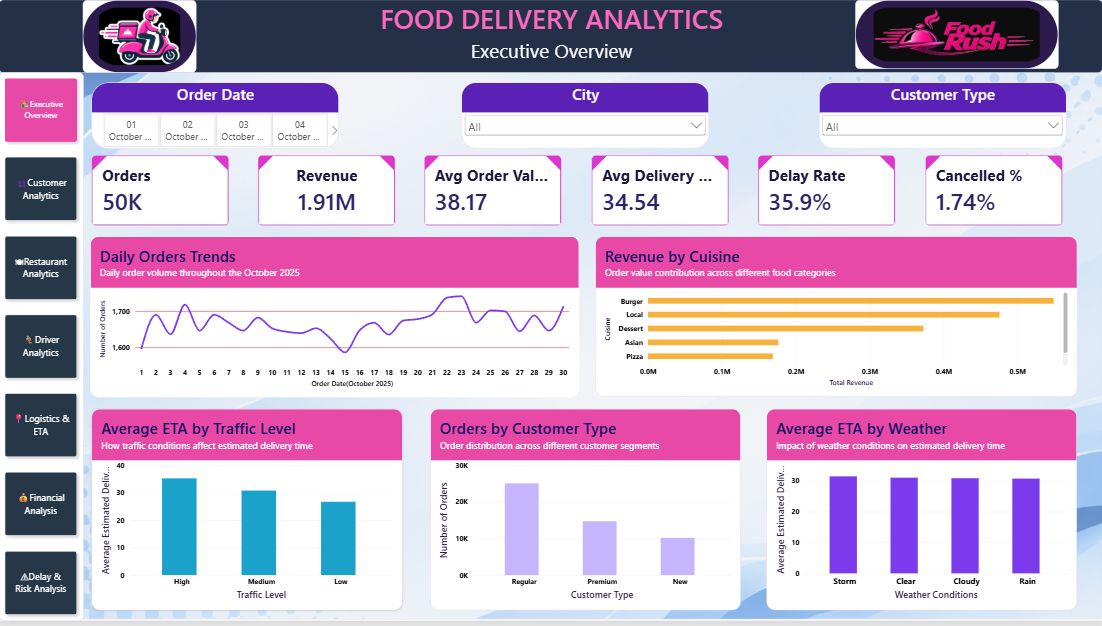

The page's visual inventory and layout, read from the dashboard file:
{"tool":"powerbi","page":{"name":"🏠Executive Overview","canvas":[1920,1080],"ordinal":0},"visuals":[{"type":"cardVisual","fields":{"Data":["food_delivery_clean.Total Order Value"]},"box":[450,270,239,123],"z":0},{"type":"cardVisual","fields":{"Data":["food_delivery_clean.Average Order Value"]},"box":[740,270,239,123],"z":1000},{"type":"cardVisual","fields":{"Data":["food_delivery_clean.Delay Rate"]},"box":[1320,270,239,123],"z":2000},{"type":"lineChart","title":"Daily Orders Trends","fields":{"Category":["food_delivery_clean.order_date.Variation.Date Hierarchy.Day"],"Y":["CountNonNull(food_delivery_clean.order_id)"]},"box":[159.2,410.2,850,280],"z":3000},{"type":"clusteredBarChart","title":"Revenue by Cuisine","fields":{"Category":["food_delivery_clean.restaurant_primary_category"],"Y":["Sum(food_delivery_clean.order_total)"]},"box":[1036.7,410.2,838.8,279.6],"z":4000},{"type":"clusteredColumnChart","title":"Orders by Customer Type","fields":{"Category":["food_delivery_clean.customer_type"],"Y":["CountNonNull(food_delivery_clean.order_id)"]},"box":[751,710.2,540,350],"z":5000},{"type":"clusteredColumnChart","title":"Average ETA by Traffic Level","fields":{"Category":["food_delivery_clean.traffic_level"],"Y":["Avg(food_delivery_clean.estimated_delivery_time_minutes)"]},"box":[161.2,710.2,540.8,350],"z":6000},{"type":"clusteredColumnChart","title":"Average ETA by Weather","fields":{"Category":["food_delivery_clean.weather"],"Y":["Avg(food_delivery_clean.estimated_delivery_time_minutes)"]},"box":[1334.7,710.2,540,350],"z":7000},{"type":"cardVisual","fields":{"Data":["food_delivery_clean.Total Orders"]},"box":[160,270,239,123],"z":8000},{"type":"cardVisual","fields":{"Data":["food_delivery_clean.Cancelled %"]},"box":[1610,270,239,123],"z":9000},{"type":"cardVisual","fields":{"Data":["food_delivery_clean.Avg Delivery Time"]},"box":[1030,270,239,123],"z":10000},{"type":"slicer","title":"Order Date","fields":{"Values":["food_delivery_clean.order_date"]},"box":[161.1,142.6,430,114.8],"z":11000},{"type":"slicer","title":"City","fields":{"Values":["food_delivery_clean.city"]},"box":[804.1,142.9,430.6,114.3],"z":12000},{"type":"slicer","title":"Customer Type","fields":{"Values":["food_delivery_clean.customer_type"]},"box":[1426.5,142.9,430,114],"z":13000},{"type":"textbox","title":"FOOD DELIVERY ANALYTICS","box":[0,0,1920.4,126.5],"z":23000},{"type":"pageNavigator","box":[0,126.5,146.9,953.1],"z":24000},{"type":"image","box":[146.7,0,197.8,126.7],"z":24001},{"type":"image","box":[1488.9,0,353.3,120],"z":24002}]}

Visuals, with their boxes on the page's 1920x1080 design canvas (x1, y1, x2, y2). These are canvas units, not pixel positions in the 1102x626 screenshot, which may show the page scaled, cropped or inside an application window:
cardVisual - food_delivery_clean.Total Order Value: 450, 270, 689, 393
cardVisual - food_delivery_clean.Average Order Value: 740, 270, 979, 393
cardVisual - food_delivery_clean.Delay Rate: 1320, 270, 1559, 393
"Daily Orders Trends" lineChart: 159, 410, 1009, 690
"Revenue by Cuisine" clusteredBarChart: 1037, 410, 1876, 690
"Orders by Customer Type" clusteredColumnChart: 751, 710, 1291, 1060
"Average ETA by Traffic Level" clusteredColumnChart: 161, 710, 702, 1060
"Average ETA by Weather" clusteredColumnChart: 1335, 710, 1875, 1060
cardVisual - food_delivery_clean.Total Orders: 160, 270, 399, 393
cardVisual - food_delivery_clean.Cancelled %: 1610, 270, 1849, 393
cardVisual - food_delivery_clean.Avg Delivery Time: 1030, 270, 1269, 393
"Order Date" slicer: 161, 143, 591, 257
"City" slicer: 804, 143, 1235, 257
"Customer Type" slicer: 1426, 143, 1856, 257
"FOOD DELIVERY ANALYTICS" textbox: 0, 0, 1920, 126
pageNavigator: 0, 126, 147, 1080
image: 147, 0, 344, 127
image: 1489, 0, 1842, 120
